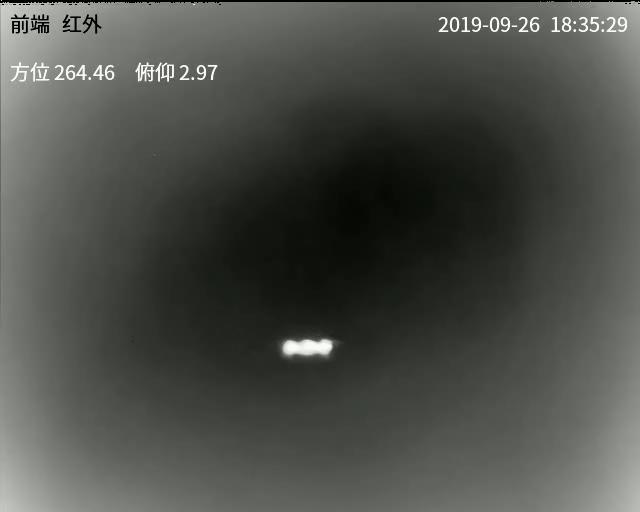uav: (269, 330, 330, 365)
